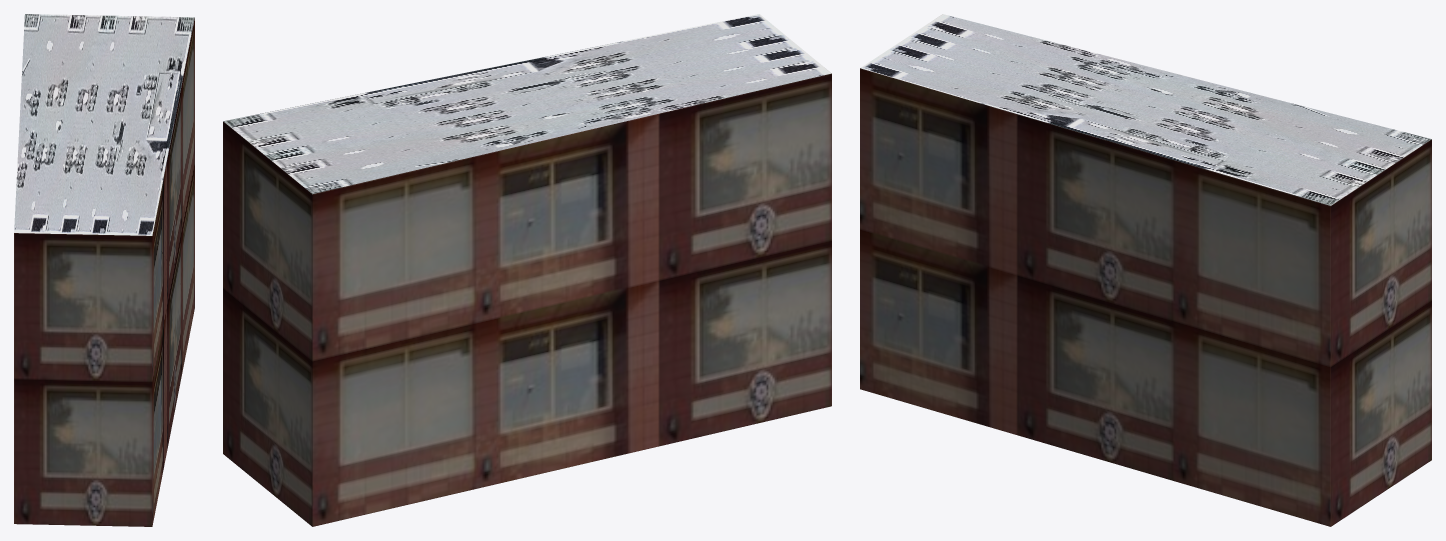
The model's file is ResTex__681.fbx.
3 views of the same model, side by side, from view 1: azimuth 30°, elevation 25°; view 2: azimuth 150°, elevation 25°; view 3: azimuth 270°, elevation 25° (orthographic). The views are drawn at different scales.
Visible parts, largest first — view 1: CityEngineMaterial_13_m, CityEngineMaterial_m; view 2: CityEngineMaterial_13_m, CityEngineMaterial_m; view 3: CityEngineMaterial_13_m, CityEngineMaterial_m.
Part boxes in pixels (x1,y1,x2,y2): CityEngineMaterial_13_m: [14, 18, 194, 526]; CityEngineMaterial_m: [14, 14, 194, 235]; CityEngineMaterial_13_m: [223, 73, 831, 526]; CityEngineMaterial_m: [223, 14, 831, 194]; CityEngineMaterial_13_m: [860, 68, 1431, 526]; CityEngineMaterial_m: [860, 14, 1431, 205].
Size of the model in its own units: 7.7 by 6 by 9.69.
Materials: 2 (2 with a texture image).
